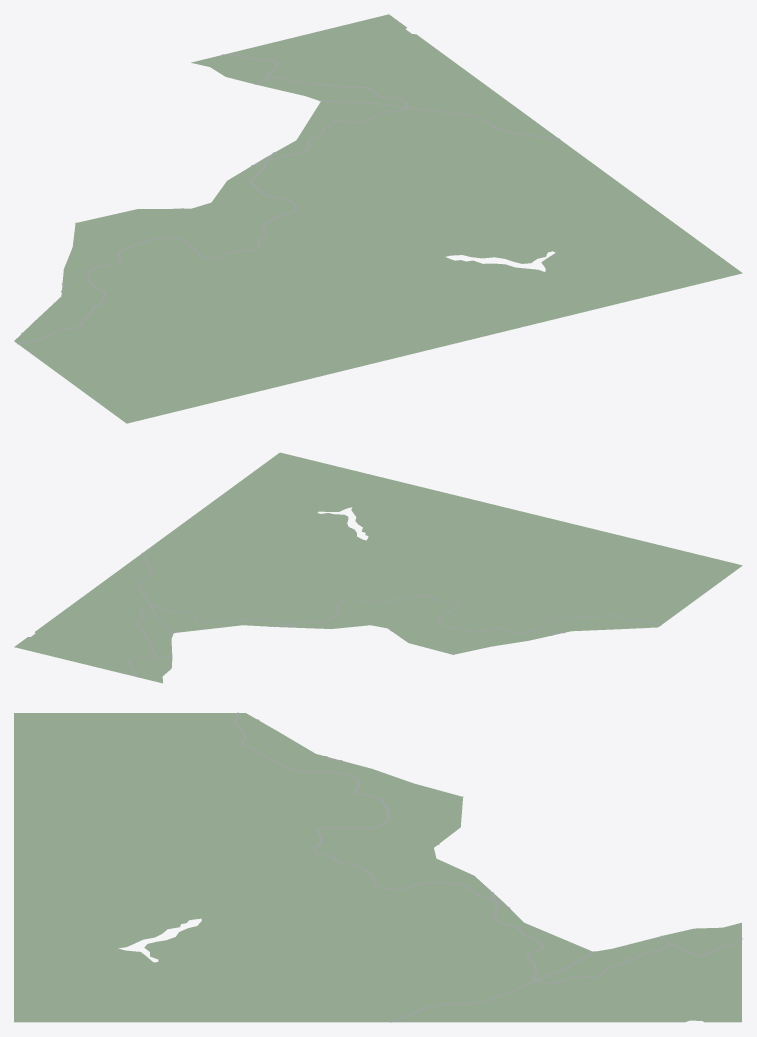
Rendered from 4_6-known-fine.glb.
The picture shows the model from 3 angles, top to bottom: view 1: azimuth 30°, elevation 25°; view 2: azimuth 150°, elevation 25°; view 3: azimuth 270°, elevation 25°; orthographic projection. The views are drawn at different scales.
Size of the model in its own units: 1003 by 0.1 by 996.
